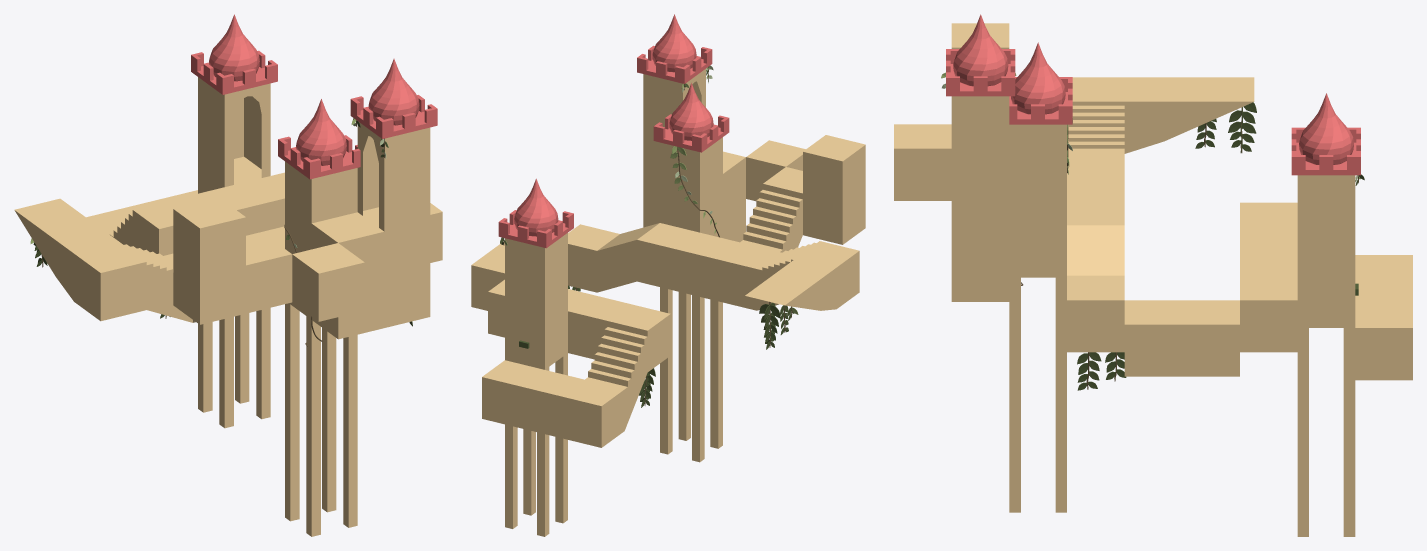
Rendered from 1.Level.fbx.
3 renders of one model, left to right at view 1: azimuth 30°, elevation 25°; view 2: azimuth 150°, elevation 25°; view 3: azimuth 270°, elevation 25°, orthographic. The views are drawn at different scales.
Parts seen in each view (by area): view 1: AnaMap2, HareketliPlatform 2, Kubbe, Kubbe.002, Kubbe.001, Kenar, Kenar.002, Kenar.001, HareketliPlatform 1; view 2: AnaMap2, HareketliPlatform 2, HareketliPlatform 1, Kubbe, Kubbe.002, Kubbe.001, Kenar.001, Kenar.002, Kenar; view 3: AnaMap2, HareketliPlatform 1, HareketliPlatform 2, Kubbe, Kubbe.002, Kubbe.001, Kenar.002, Kenar, Kenar.001.
Part boxes in pixels (x1,y1,x2,y2): AnaMap2: [14, 77, 430, 536]; HareketliPlatform 2: [292, 243, 364, 321]; Kubbe: [368, 58, 419, 125]; Kubbe.002: [209, 14, 259, 81]; Kubbe.001: [296, 99, 346, 165]; Kenar: [350, 95, 437, 138]; Kenar.002: [191, 50, 277, 94]; Kenar.001: [278, 135, 360, 179]; HareketliPlatform 1: [430, 203, 442, 262]; AnaMap2: [482, 69, 865, 536]; HareketliPlatform 2: [746, 140, 805, 201]; HareketliPlatform 1: [471, 241, 504, 310]; Kubbe: [652, 14, 696, 72]; Kubbe.002: [514, 178, 558, 236]; Kubbe.001: [669, 83, 713, 140]; Kenar.001: [653, 114, 729, 152]; Kenar.002: [498, 210, 573, 248]; Kenar: [637, 45, 712, 83]; AnaMap2: [951, 23, 1412, 536]; HareketliPlatform 1: [1124, 300, 1239, 376]; HareketliPlatform 2: [894, 124, 951, 200]; Kubbe: [953, 14, 1008, 86]; Kubbe.002: [1299, 93, 1353, 164]; Kubbe.001: [1011, 42, 1065, 114]; Kenar.002: [1291, 127, 1360, 175]; Kenar: [946, 49, 1015, 96]; Kenar.001: [1009, 77, 1072, 124].
Bounding box in the file's own units: 3200 × 3912 × 3600.
